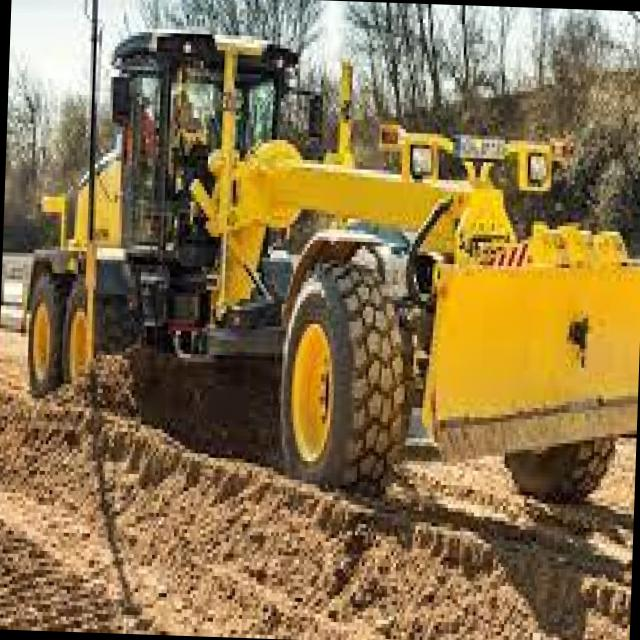Grader: (12, 9, 640, 522)
